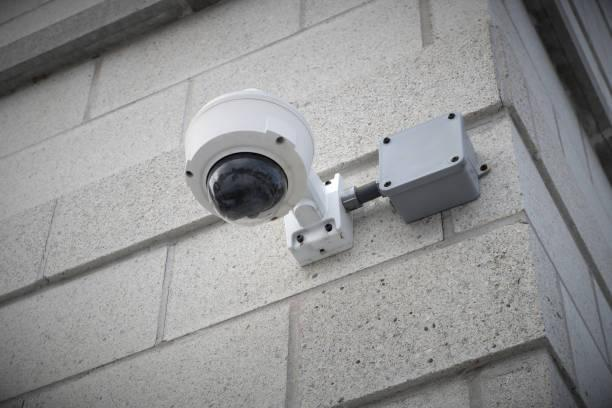360-Cam: (171, 82, 320, 238)
